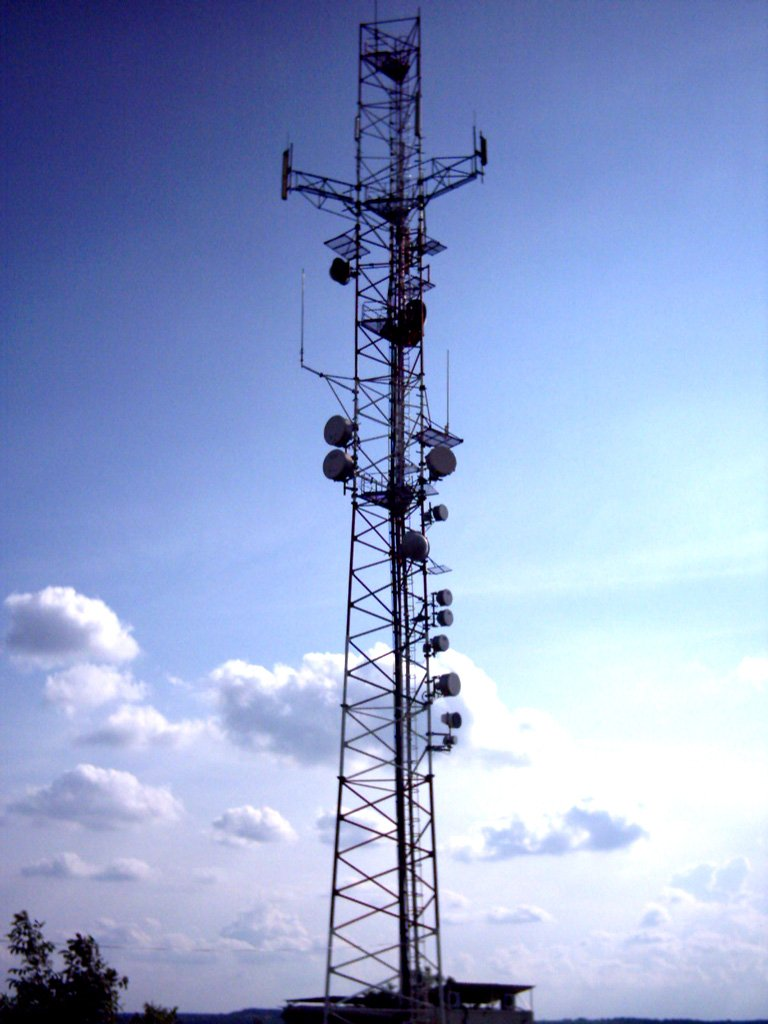a: (279, 152, 294, 199), (478, 134, 491, 164)
b: (320, 417, 356, 447), (427, 445, 457, 477), (321, 448, 347, 479), (440, 674, 461, 701), (434, 632, 447, 653), (446, 716, 460, 731), (440, 591, 449, 605)
